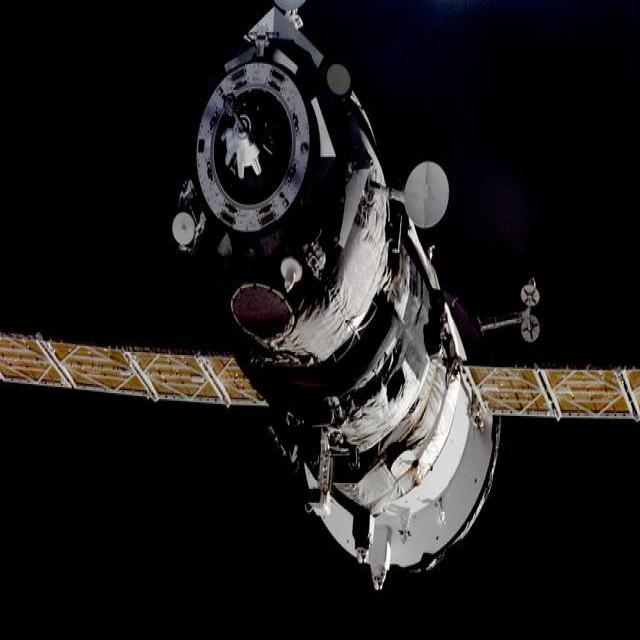medium_debris: (0, 0, 640, 588)
